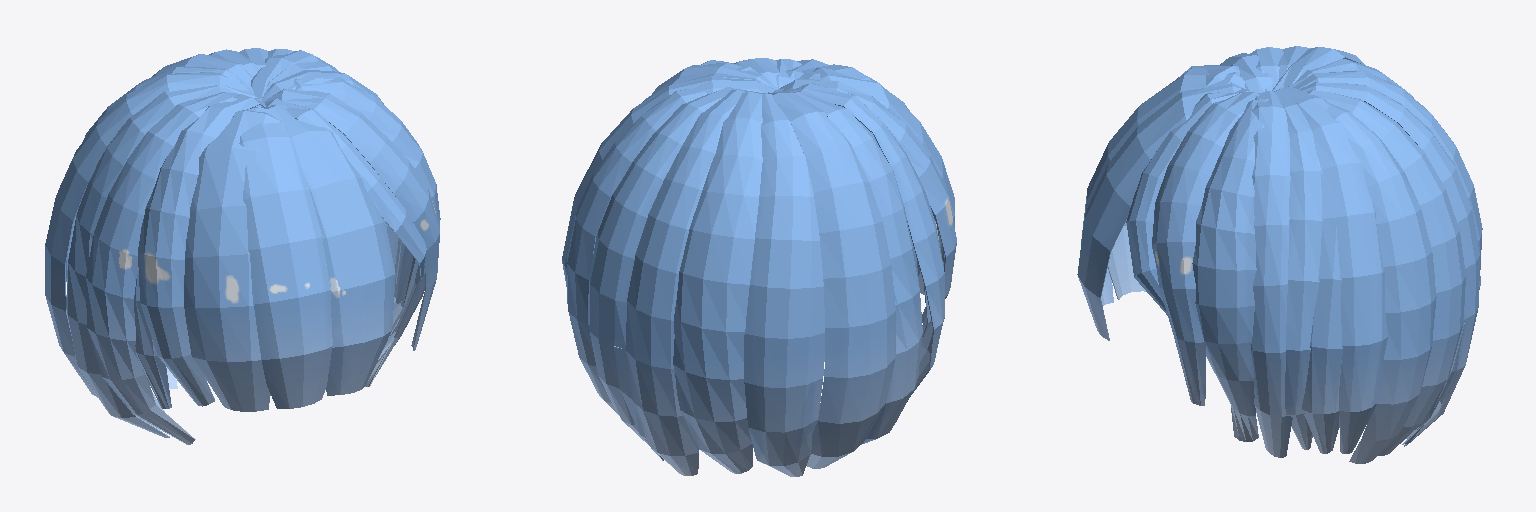
The picture shows the model from 3 angles: view 1: azimuth 30°, elevation 25°; view 2: azimuth 150°, elevation 25°; view 3: azimuth 270°, elevation 25°; orthographic projection.
Visible parts, largest first — view 1: NurbsPath.003; view 2: NurbsPath.003; view 3: NurbsPath.003.
Boxes of the visible parts, x1,y1,x2,y2 form: NurbsPath.003: [45, 48, 440, 444]; NurbsPath.003: [562, 58, 956, 476]; NurbsPath.003: [1077, 46, 1482, 463].
Bounding box in the file's own units: 0.2858 × 0.29 × 0.2992.
Materials: 1 (1 with a texture image).